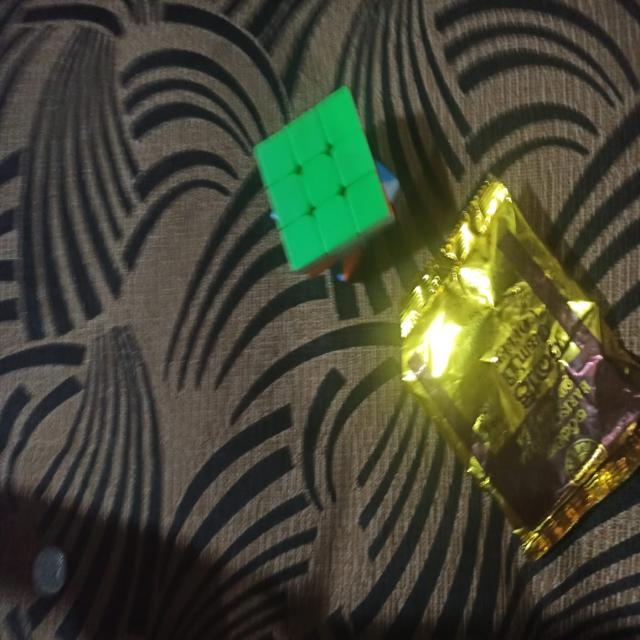Harischandra Coffee: (390, 223, 640, 531)
